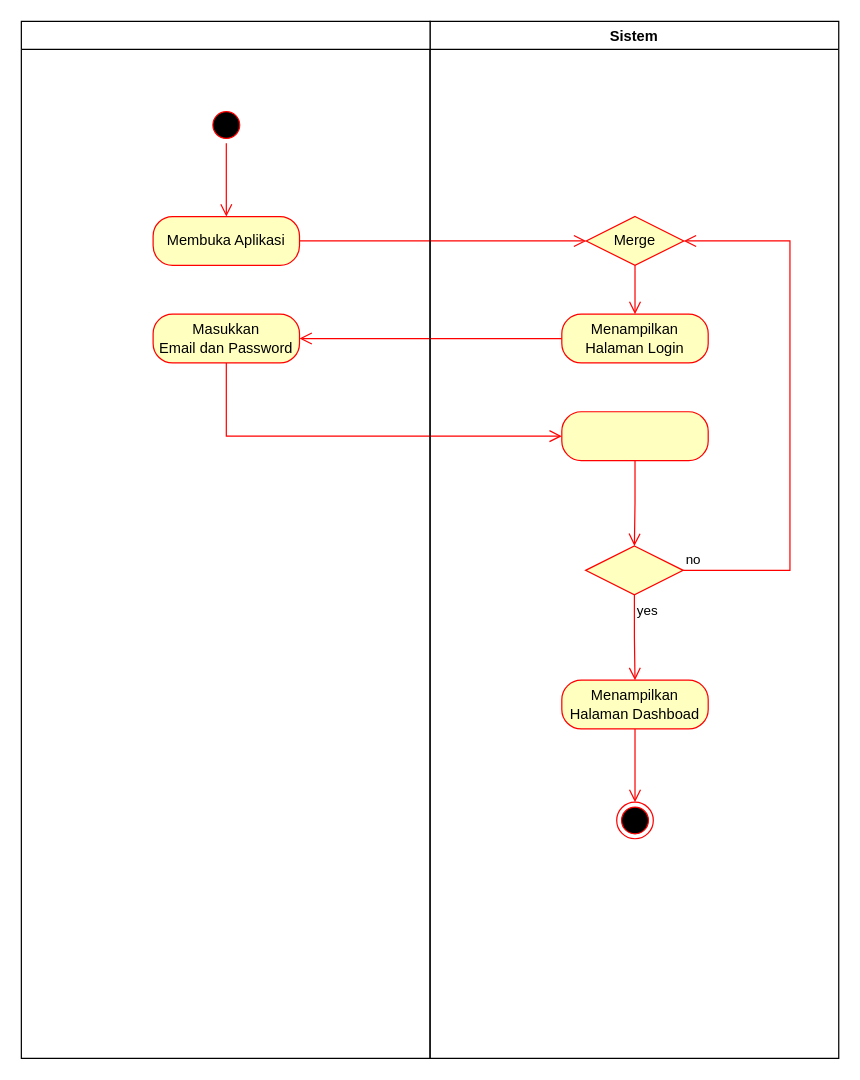
This 860x1080 diagram has some shape labels left out. Here are the shapes that lost their labels. From the top down, the box of each, then its label:
(561, 411, 708, 461): Cek Data
(20, 20, 430, 1058): User
(584, 545, 683, 595): Data Valid?
